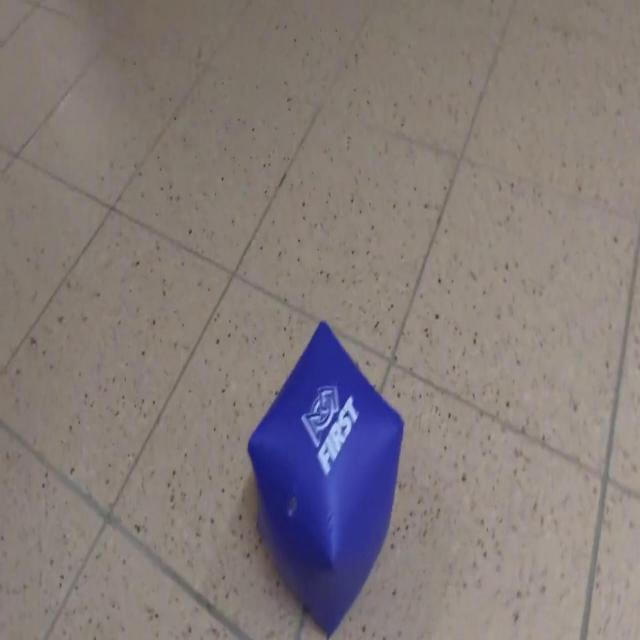frc_cube: (247, 323, 404, 633)
